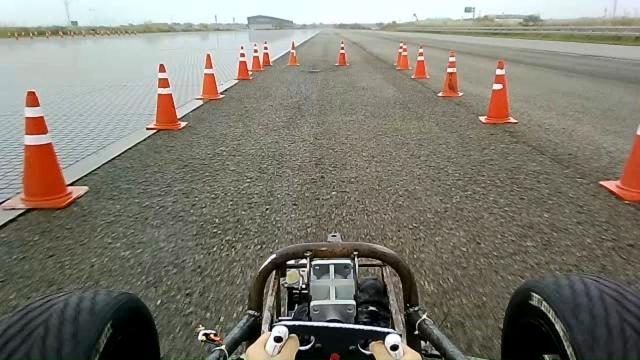red cone: (2, 88, 89, 209), (599, 124, 639, 203), (146, 62, 188, 130), (478, 59, 518, 125), (195, 52, 225, 100), (436, 50, 464, 97), (233, 45, 253, 80), (410, 44, 429, 79), (395, 41, 412, 70), (250, 42, 264, 72), (334, 40, 349, 66), (286, 40, 300, 66), (261, 40, 273, 66), (394, 40, 404, 66)
